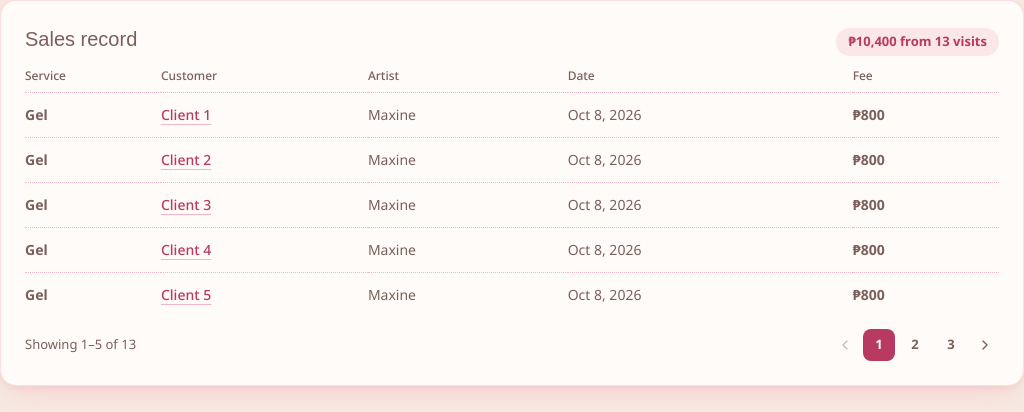
Test: SalesRecord › pages through five at a time
Expected: the number of rows is 6, [25,68,999,92]; [25,92,999,136]; [25,136,999,182]; [25,182,999,226]; [25,226,999,272]; [25,272,999,316]
Click the button named "Page 3": (951, 344) [935,328,967,360]
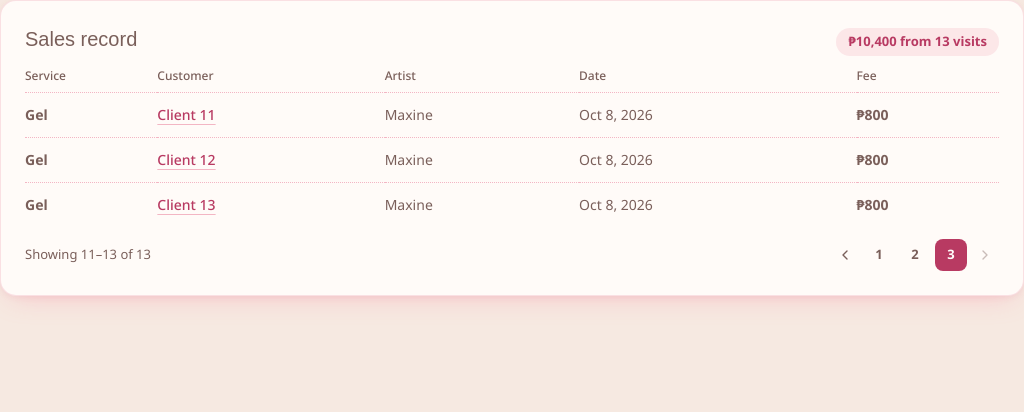
Expected: the number of rows is 4, [25,68,999,92]; [25,92,999,136]; [25,136,999,182]; [25,182,999,226]
Result: the text "Showing 11–13 of 13" is shown at [25,245,151,264]
